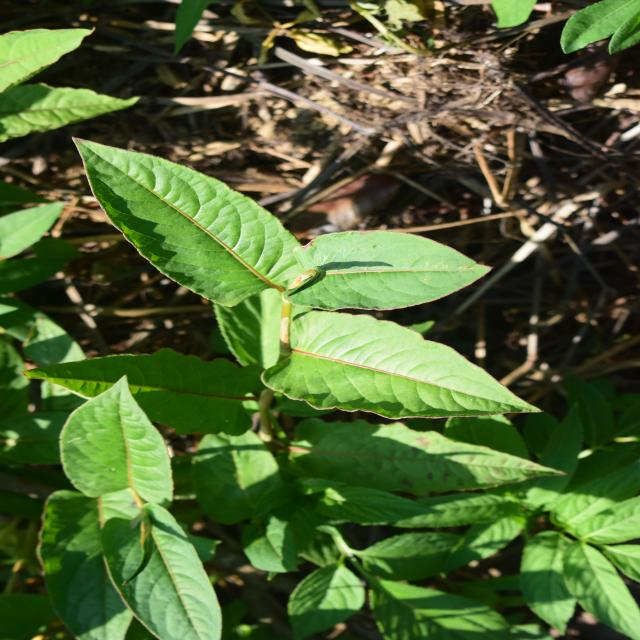Chinese_knotweed: (197, 72, 492, 474), (0, 13, 254, 240)
